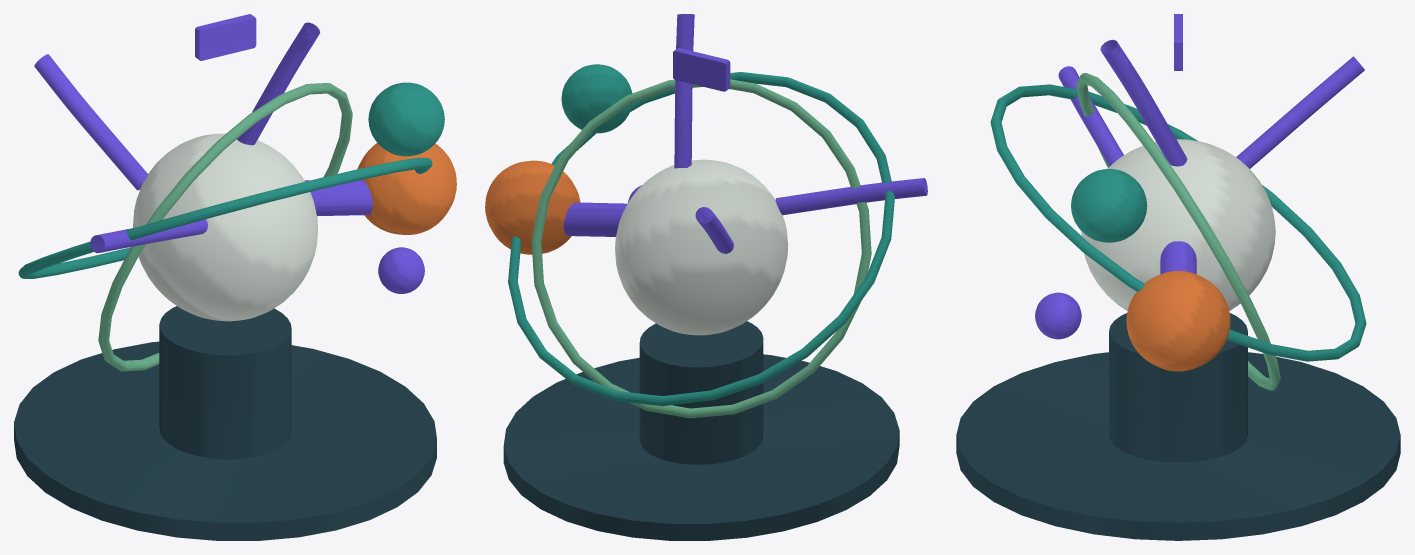
Rendered from 0518_生活中的化学图鉴_风暴瓶.glb.
The picture shows the model from 3 angles, left to right: view 1: azimuth 30°, elevation 25°; view 2: azimuth 150°, elevation 25°; view 3: azimuth 270°, elevation 25°; orthographic projection. The views are drawn at different scales.
Parts seen in each view (by area): view 1: card_0518; view 2: card_0518; view 3: card_0518.
Boxes of the visible parts, box(x1,y1,x2,y2) form: card_0518: box(14, 14, 456, 540); card_0518: box(485, 14, 927, 540); card_0518: box(956, 14, 1400, 540).
Bounding box in the file's own units: 0.9886 × 1 × 0.9236.
